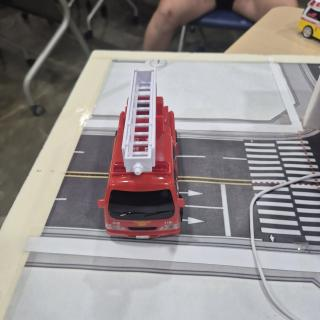Fire_truck: (98, 68, 184, 239)
